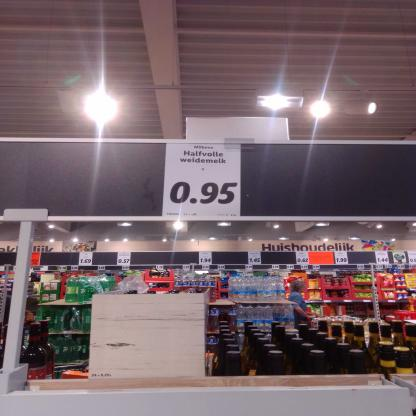prtg: (164, 144, 242, 218)
